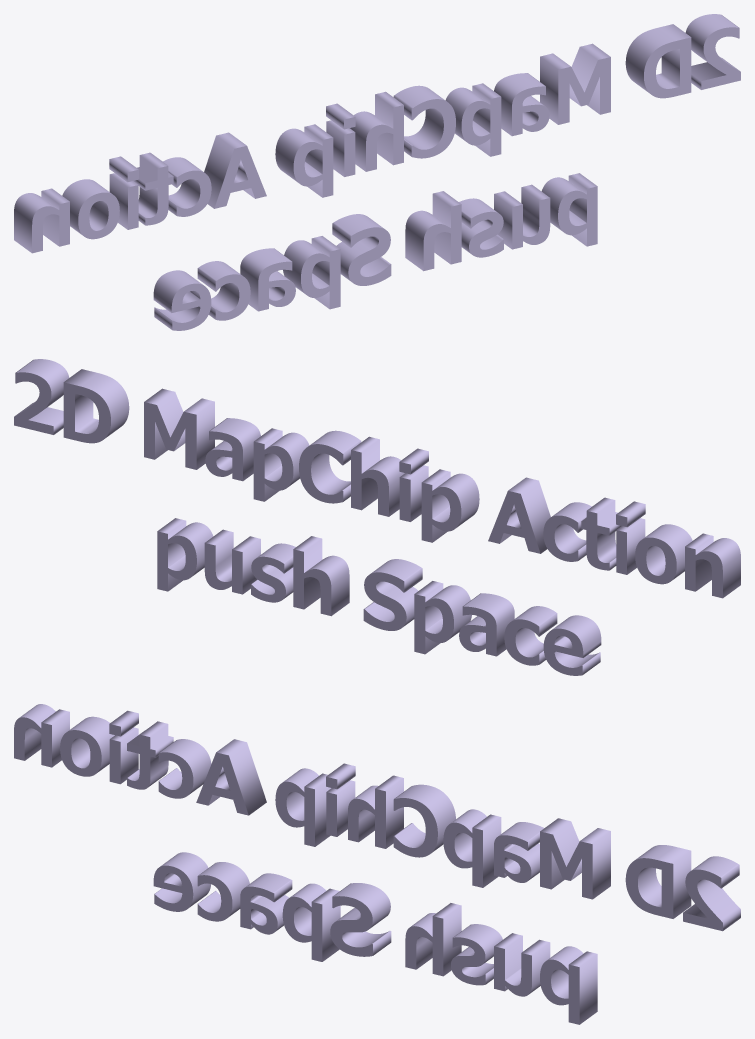
File: TitleLetter.obj
The picture shows the model from 3 angles, top to bottom: view 1: azimuth 30°, elevation 25°; view 2: azimuth 150°, elevation 25°; view 3: azimuth 330°, elevation 25°; orthographic projection.
Parts seen in each view (by area): view 1: テキスト; view 2: テキスト; view 3: テキスト.
Part boxes in pixels (bbox=[...]): テキスト: bbox=[14, 14, 740, 330]; テキスト: bbox=[14, 359, 740, 675]; テキスト: bbox=[14, 704, 740, 1024].
Size of the model in its own units: 32.73 by 8.22 by 1.45.
1 material, 1 textured.
